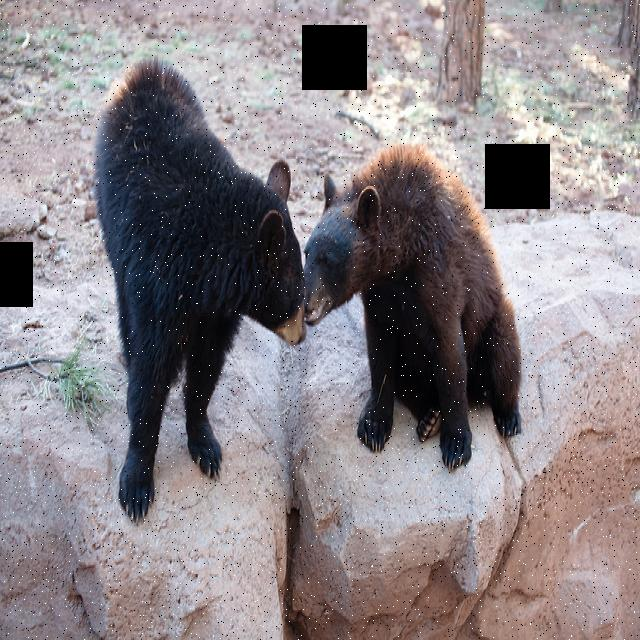Bear: (99, 49, 314, 548), (302, 126, 538, 478)
